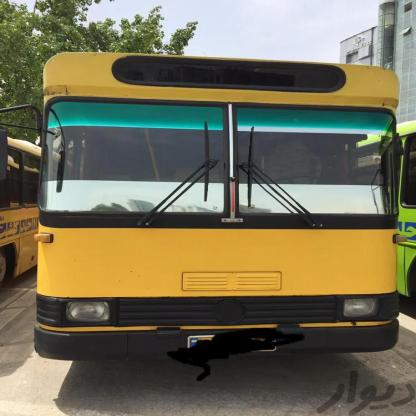Bus: (27, 53, 411, 364), (0, 128, 40, 281)
